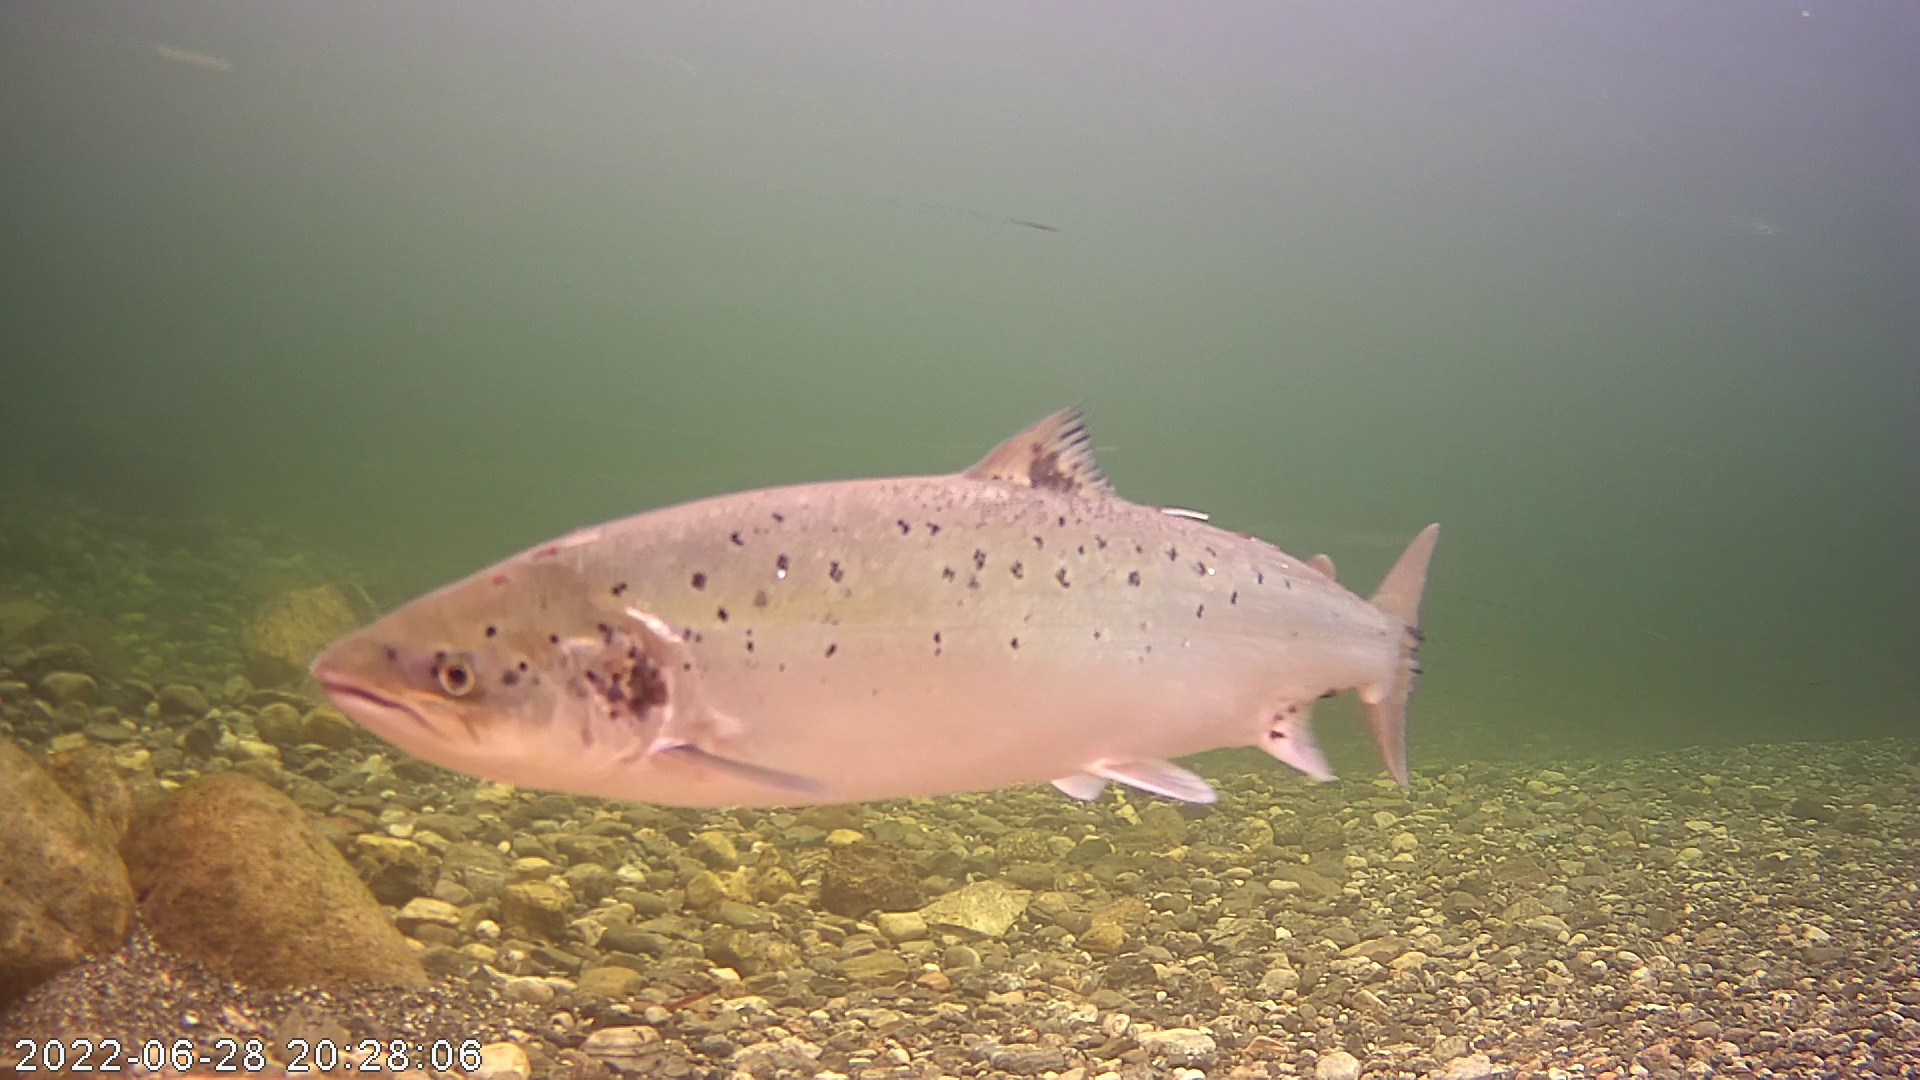salmon: (290, 353, 1408, 818)
